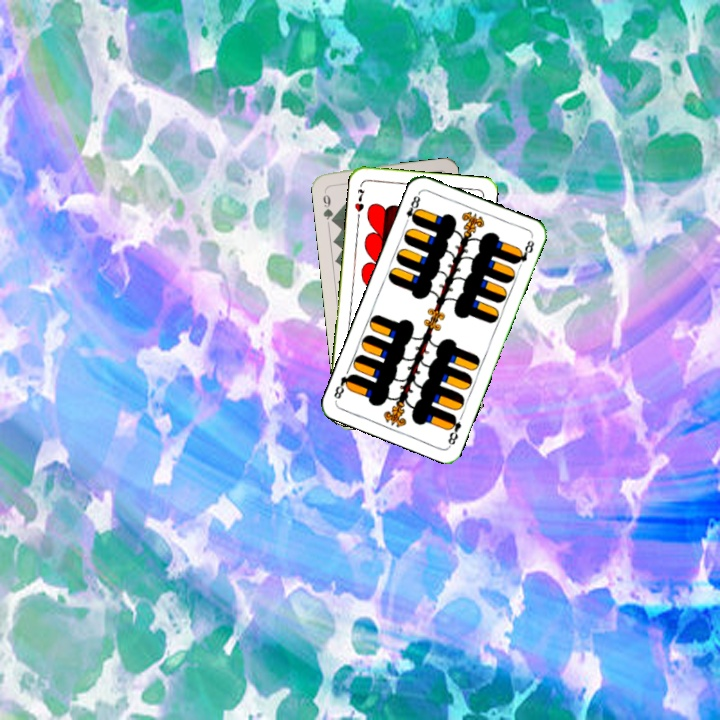E8: (401, 191, 423, 228), (444, 411, 464, 448)
G9: (319, 185, 337, 225)
H7: (351, 185, 367, 214)
